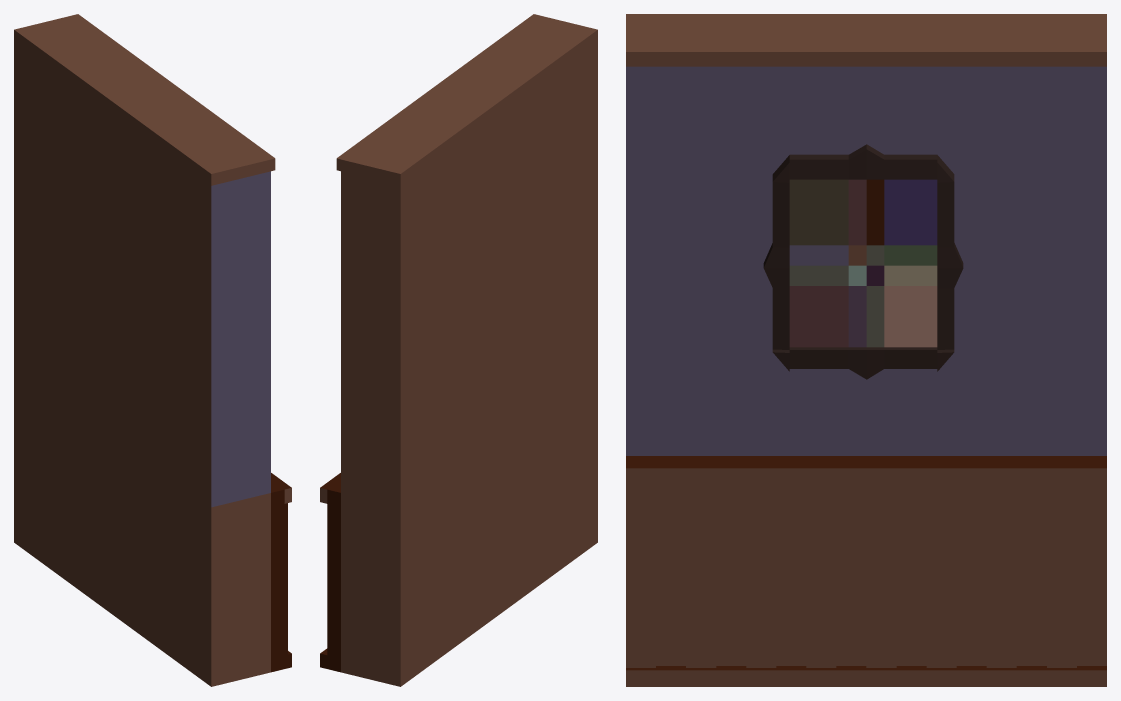
Rendered from Pentacles_Wall_Painting_1.fbx.
3 views of the same model, side by side, from view 1: azimuth 30°, elevation 25°; view 2: azimuth 150°, elevation 25°; view 3: azimuth 270°, elevation 25° (orthographic). The views are drawn at different scales.
Parts seen in each view (by area): view 1: Wall Basic Painting; view 2: Wall Basic Painting; view 3: Wall Basic Painting, painting.
Boxes of the visible parts, <box> form: Wall Basic Painting: <box>14,14,291,686</box>; Wall Basic Painting: <box>320,14,597,686</box>; Wall Basic Painting: <box>626,14,1106,686</box>; painting: <box>763,144,963,379</box>.
Bounding box in the file's own units: 98.17 × 597 × 416.
